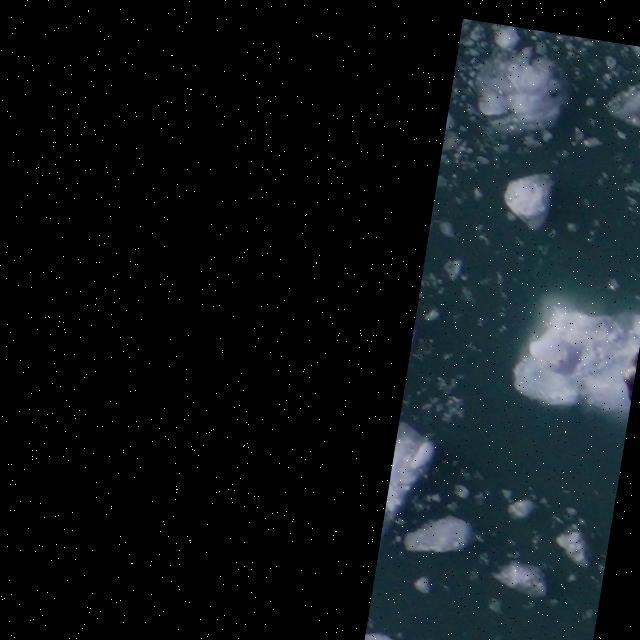seal: (617, 325, 640, 407)
